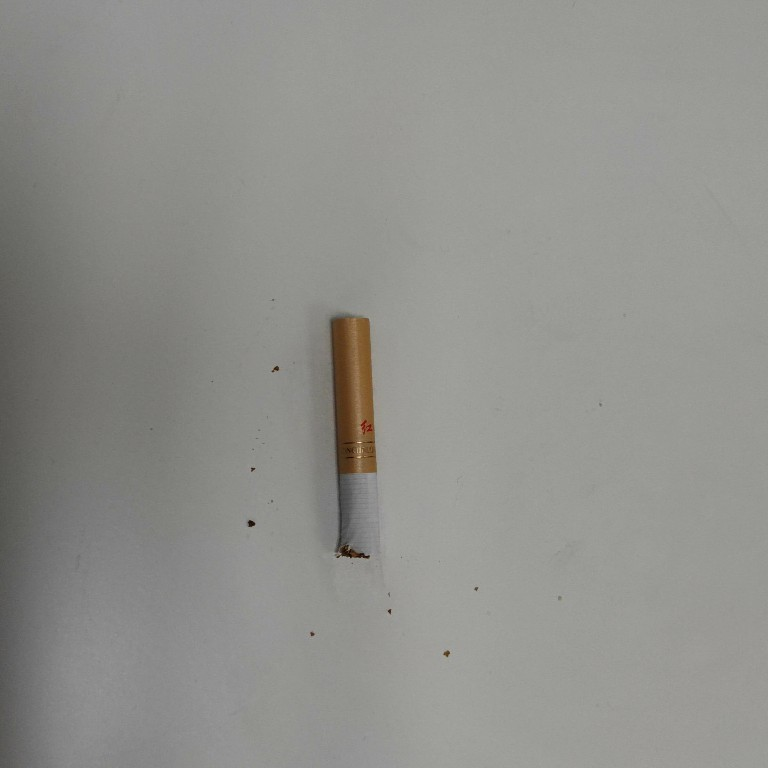cigarette: (324, 311, 390, 562)
